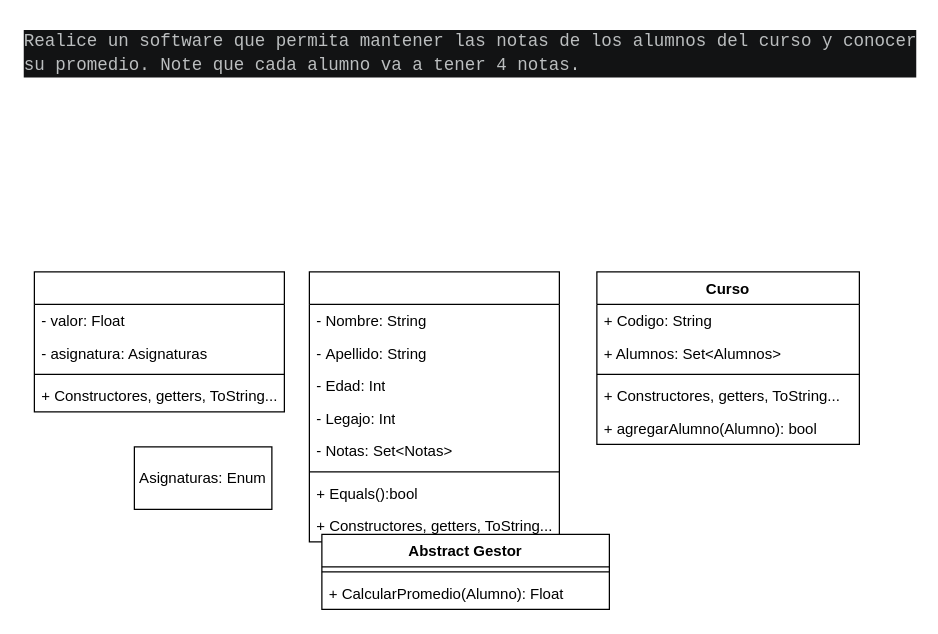
Image size: 938x634. Some labels were removed from this diagram. The box of each missing label's shape, as (x1, y1, x2, y2) in pixels:
Alumno: (308, 271, 559, 542)
Nota: (33, 271, 284, 412)
